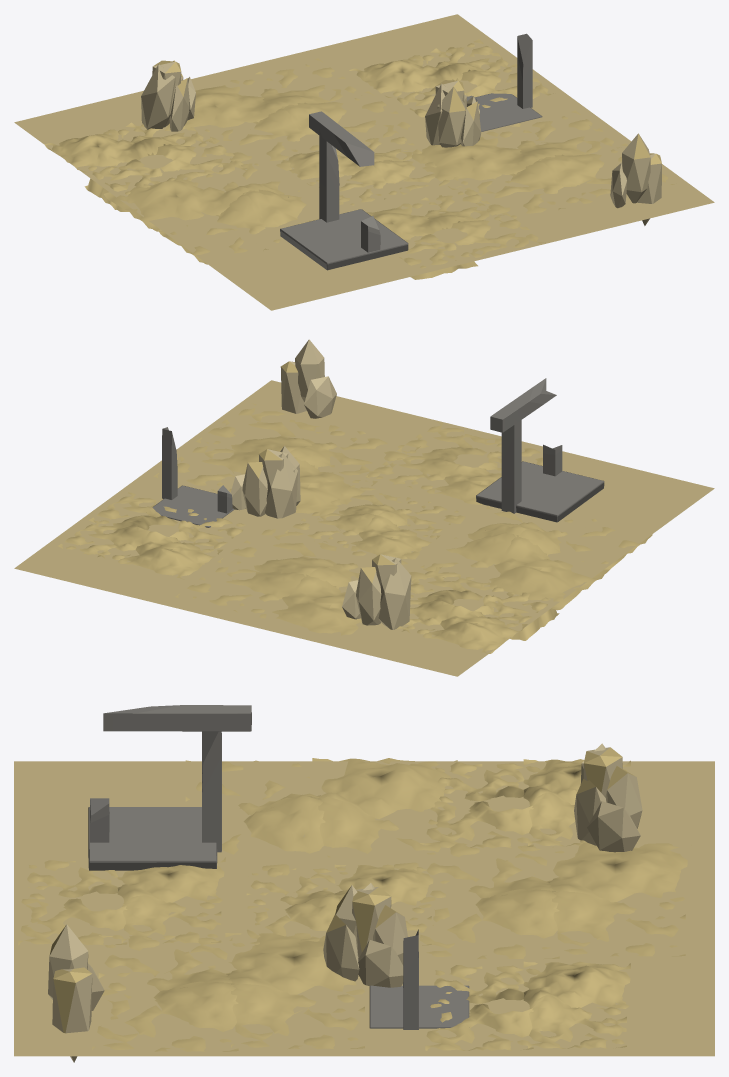
The model's file is mojave.glb.
3 views of the same model, one above another, from view 1: azimuth 30°, elevation 25°; view 2: azimuth 150°, elevation 25°; view 3: azimuth 270°, elevation 25° (orthographic). The views are drawn at different scales.
Parts seen in each view (by area): view 1: Plane, archpillar1.006, Landscape6.151, Landscape7.151, Landscape8.151, Landscape2.150, Landscape1.150, Landscape7.453, Landscape7.303, Landscape7, Landscape8.453, Landscape2.301 (+32 smaller); view 2: Plane, Landscape6.151, archpillar1.006, Landscape8.151, Landscape2.150, Landscape1.150, Landscape7.151, Landscape7.303, Landscape8, Landscape.151, Landscape7.453, Landscape8.303 (+30 smaller); view 3: Plane, archpillar1.006, Landscape8.151, Landscape6.151, Landscape7.151, Landscape7.303, Landscape8.303, Landscape7, Landscape1.150, Landscape6.303, archpillar1.001, Landscape8 (+33 smaller).
Boxes of the visible parts, x1=… form: Plane: x1=14, y1=14, x2=714, y2=310; archpillar1.006: x1=280, y1=209, x2=408, y2=270; Landscape6.151: x1=104, y1=179, x2=242, y2=231; Landscape7.151: x1=403, y1=131, x2=538, y2=189; Landscape8.151: x1=184, y1=80, x2=281, y2=135; Landscape2.150: x1=44, y1=129, x2=148, y2=172; Landscape1.150: x1=349, y1=55, x2=452, y2=97; Landscape7.453: x1=456, y1=160, x2=578, y2=223; Landscape7.303: x1=539, y1=143, x2=676, y2=203; Landscape7: x1=499, y1=110, x2=621, y2=160; Landscape8.453: x1=202, y1=108, x2=319, y2=170; Landscape2.301: x1=147, y1=138, x2=246, y2=180; Plane: x1=14, y1=380, x2=714, y2=676; Landscape6.151: x1=489, y1=537, x2=609, y2=610; archpillar1.006: x1=476, y1=461, x2=604, y2=522; Landscape8.151: x1=259, y1=576, x2=361, y2=639; Landscape2.150: x1=423, y1=606, x2=527, y2=653; Landscape1.150: x1=118, y1=531, x2=222, y2=579; Landscape7.151: x1=294, y1=457, x2=377, y2=520; Landscape7.303: x1=196, y1=403, x2=339, y2=452; Landscape8: x1=175, y1=566, x2=308, y2=613; Landscape.151: x1=342, y1=515, x2=440, y2=559; Landscape7.453: x1=290, y1=431, x2=420, y2=481; Landscape8.303: x1=217, y1=529, x2=358, y2=576; Plane: x1=14, y1=761, x2=714, y2=1056; archpillar1.006: x1=88, y1=807, x2=217, y2=870; Landscape8.151: x1=547, y1=841, x2=691, y2=902; Landscape6.151: x1=312, y1=758, x2=457, y2=819; Landscape7.151: x1=225, y1=933, x2=365, y2=995; Landscape7.303: x1=92, y1=981, x2=238, y2=1051; Landscape8.303: x1=419, y1=889, x2=559, y2=959; Landscape7: x1=231, y1=983, x2=364, y2=1048; Landscape1.150: x1=523, y1=961, x2=630, y2=1008; Landscape6.303: x1=222, y1=794, x2=325, y2=876; archpillar1.001: x1=103, y1=705, x2=251, y2=731; Landscape8: x1=552, y1=891, x2=685, y2=956.
Bounding box in the file's own units: 0.454 × 0.1263 × 0.4513.
